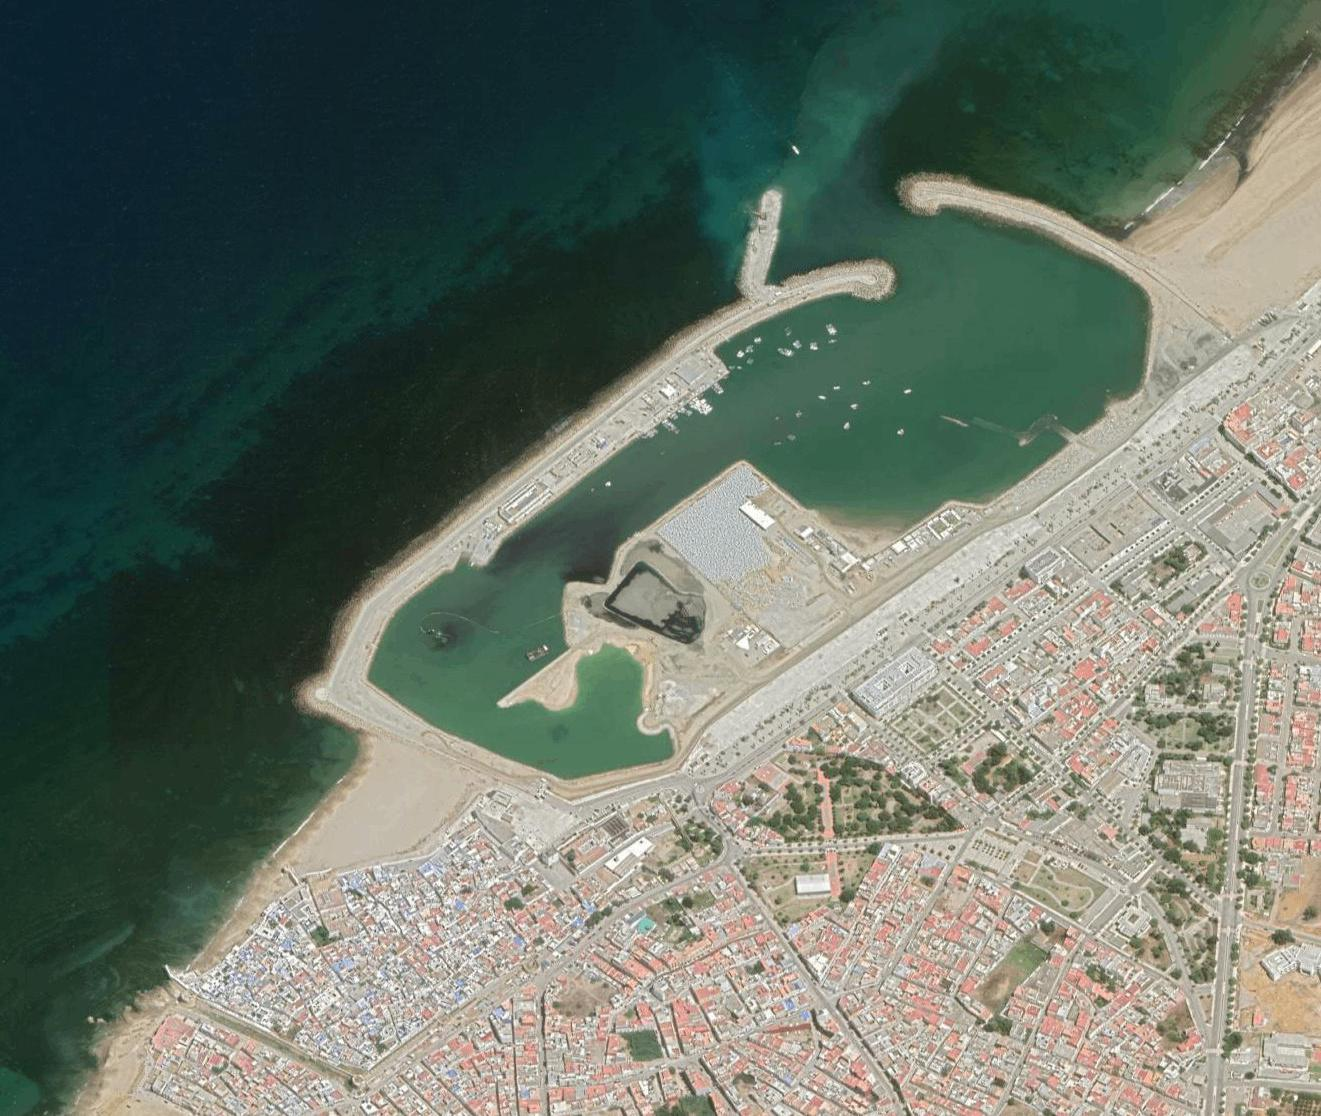harbor: (252, 211, 1138, 745)
